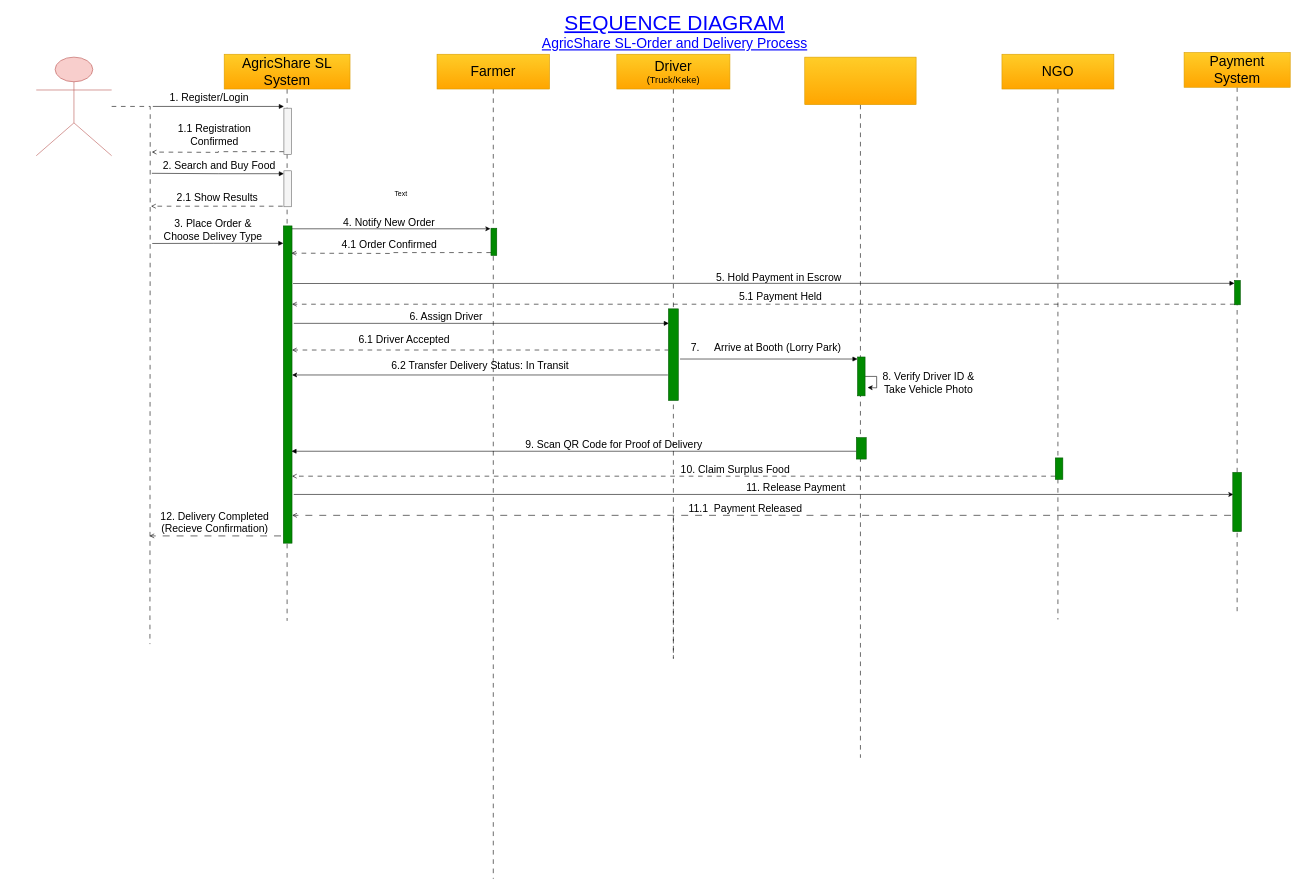
Some shapes in this 1300 by 890 pixel diagram are drawn without their labels. The centre of each missing label's shape, as x and y in pixels:
"Booth Agent (At the Lorry Park)" goes at (x=860, y=81).
"Buyer ( Consumer/Market Woman)" goes at (x=74, y=106).
